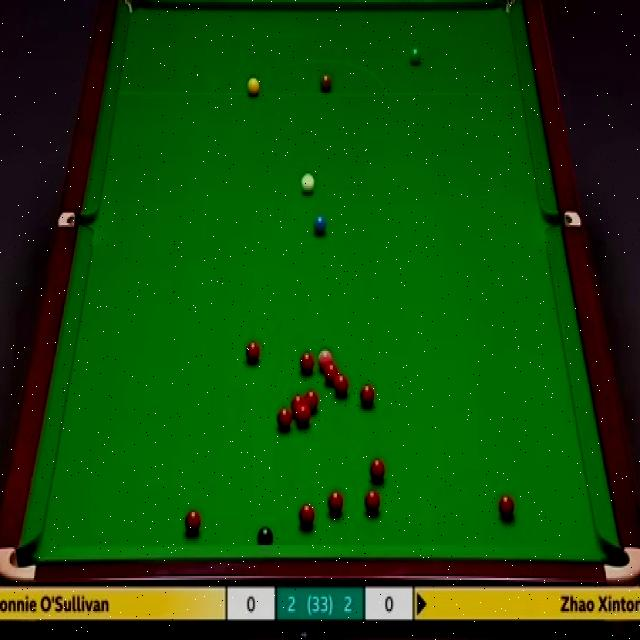black-ball: (259, 524, 276, 549)
blue-ball: (314, 216, 327, 236)
brown-ball: (319, 74, 331, 94)
green-ball: (407, 46, 423, 68)
pink-ball: (317, 347, 333, 370)
red-ball: (364, 487, 382, 516), (368, 456, 386, 484), (498, 493, 516, 520), (298, 504, 316, 528), (328, 488, 344, 515), (184, 508, 201, 533), (244, 339, 260, 365), (276, 406, 292, 431), (298, 350, 314, 374), (334, 375, 349, 400), (360, 383, 375, 408), (296, 402, 311, 426), (305, 389, 320, 412), (324, 363, 339, 382), (291, 394, 305, 412)
white-ball: (300, 171, 316, 197)
yellow-ball: (247, 74, 260, 97)
